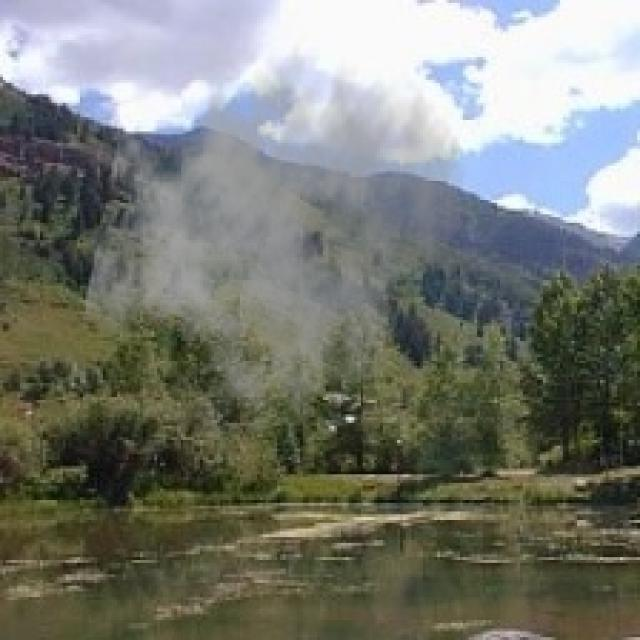smoke: (80, 26, 469, 431)
